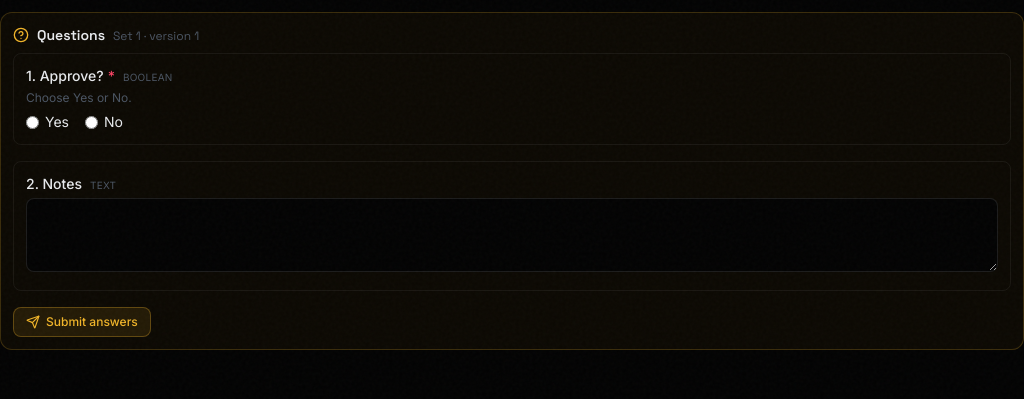
Test: MissionQuestionCard — draft persistence & recovery › preserves draft values and shows alert after a network error
This screenshot has width=1024, height=399.
Step 1. Click the radio button labelled "Yes" → (32, 122), box [26,116,39,128]
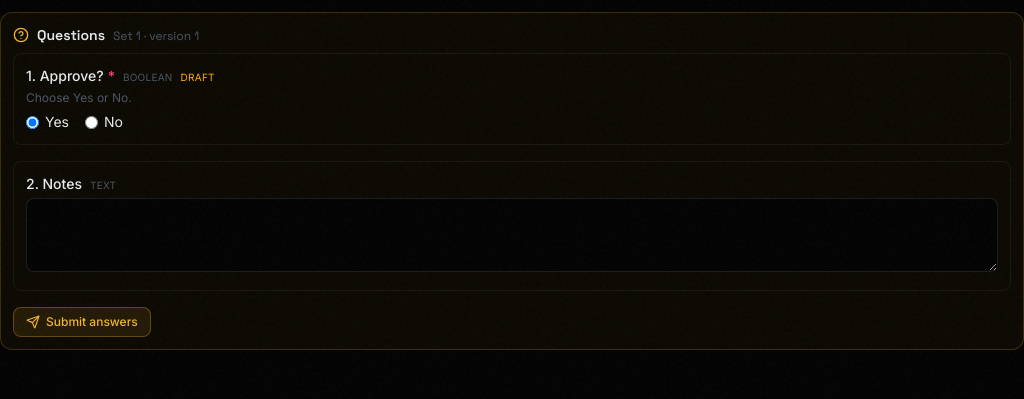
Step 2. Type "preserved draft" into the text box named "Notes" → (512, 235), box [26,198,998,272]
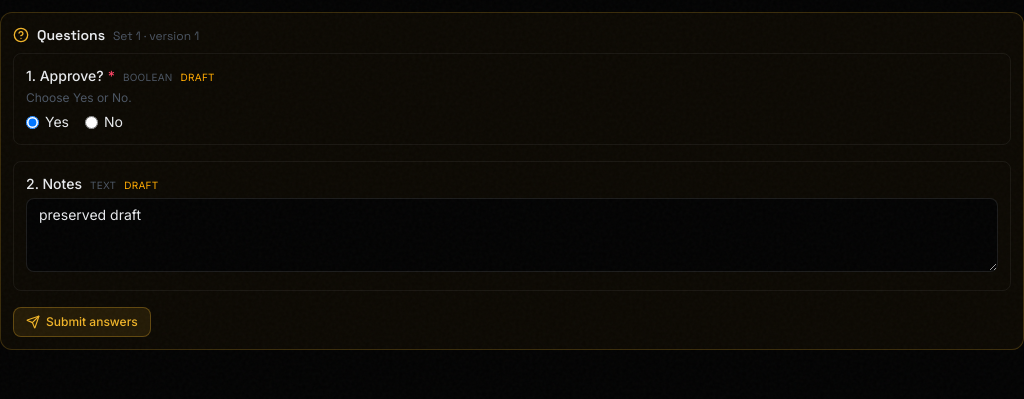
Step 3. Click the button "Submit answers" → (82, 322), box [13,307,151,337]
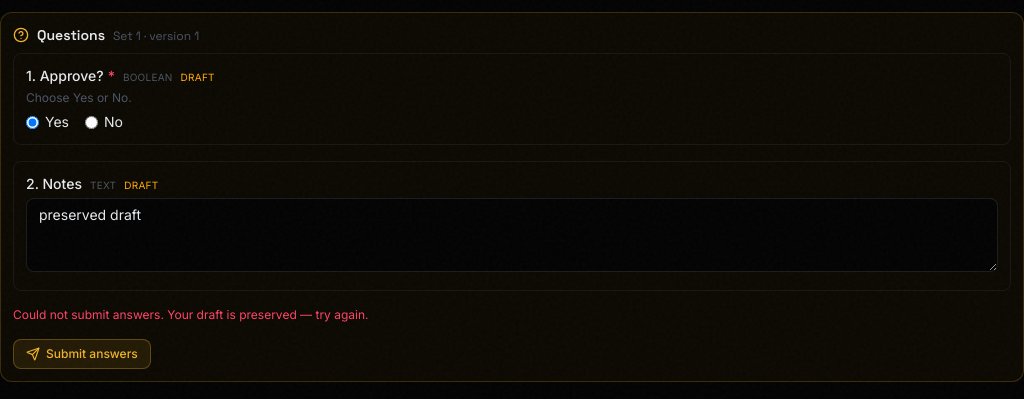
Expected: the radio button labelled "Yes" is checked, [26,116,39,128]
Expected: the message reads "Could not submit answers. Your draft is preserved — try again.", [13,307,368,322]
